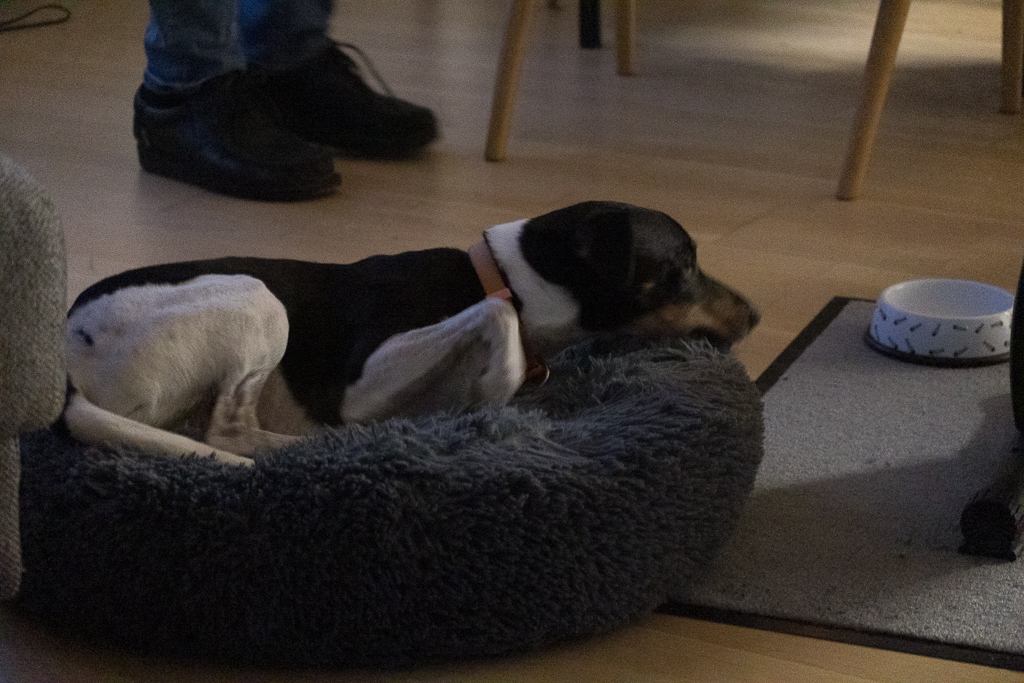Dog: (23, 190, 775, 483)
Humanoid: (121, 0, 452, 212)
